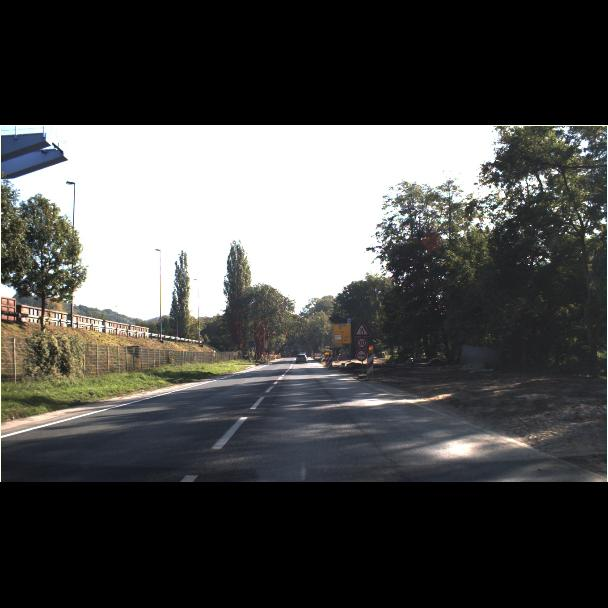road narrows: (352, 320, 370, 361)
